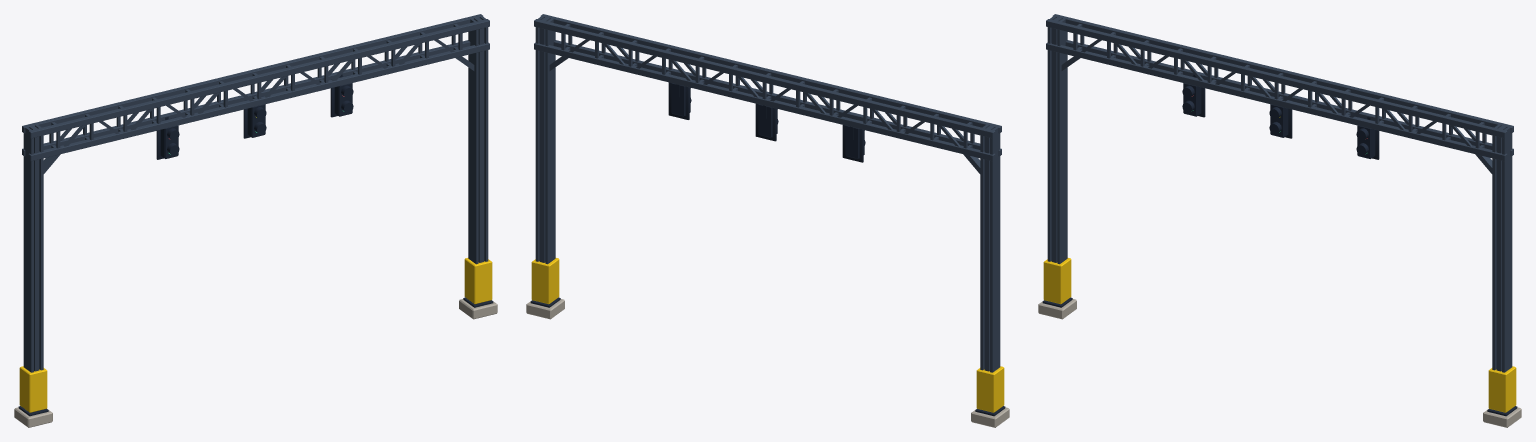
Rendered from portico_catenaria.glb.
3 renders of one model, left to right at view 1: azimuth 30°, elevation 25°; view 2: azimuth 150°, elevation 25°; view 3: azimuth 330°, elevation 25°, orthographic.
Visible parts, largest first — view 1: Portico_Catenaria; view 2: Portico_Catenaria; view 3: Portico_Catenaria.
Part boxes in pixels (box(x1,y1,x2,y2)): Portico_Catenaria: box(14, 14, 497, 427); Portico_Catenaria: box(526, 14, 1009, 427); Portico_Catenaria: box(1038, 14, 1521, 427).
Size of the model in its own units: 14.58 by 8.68 by 0.78.
